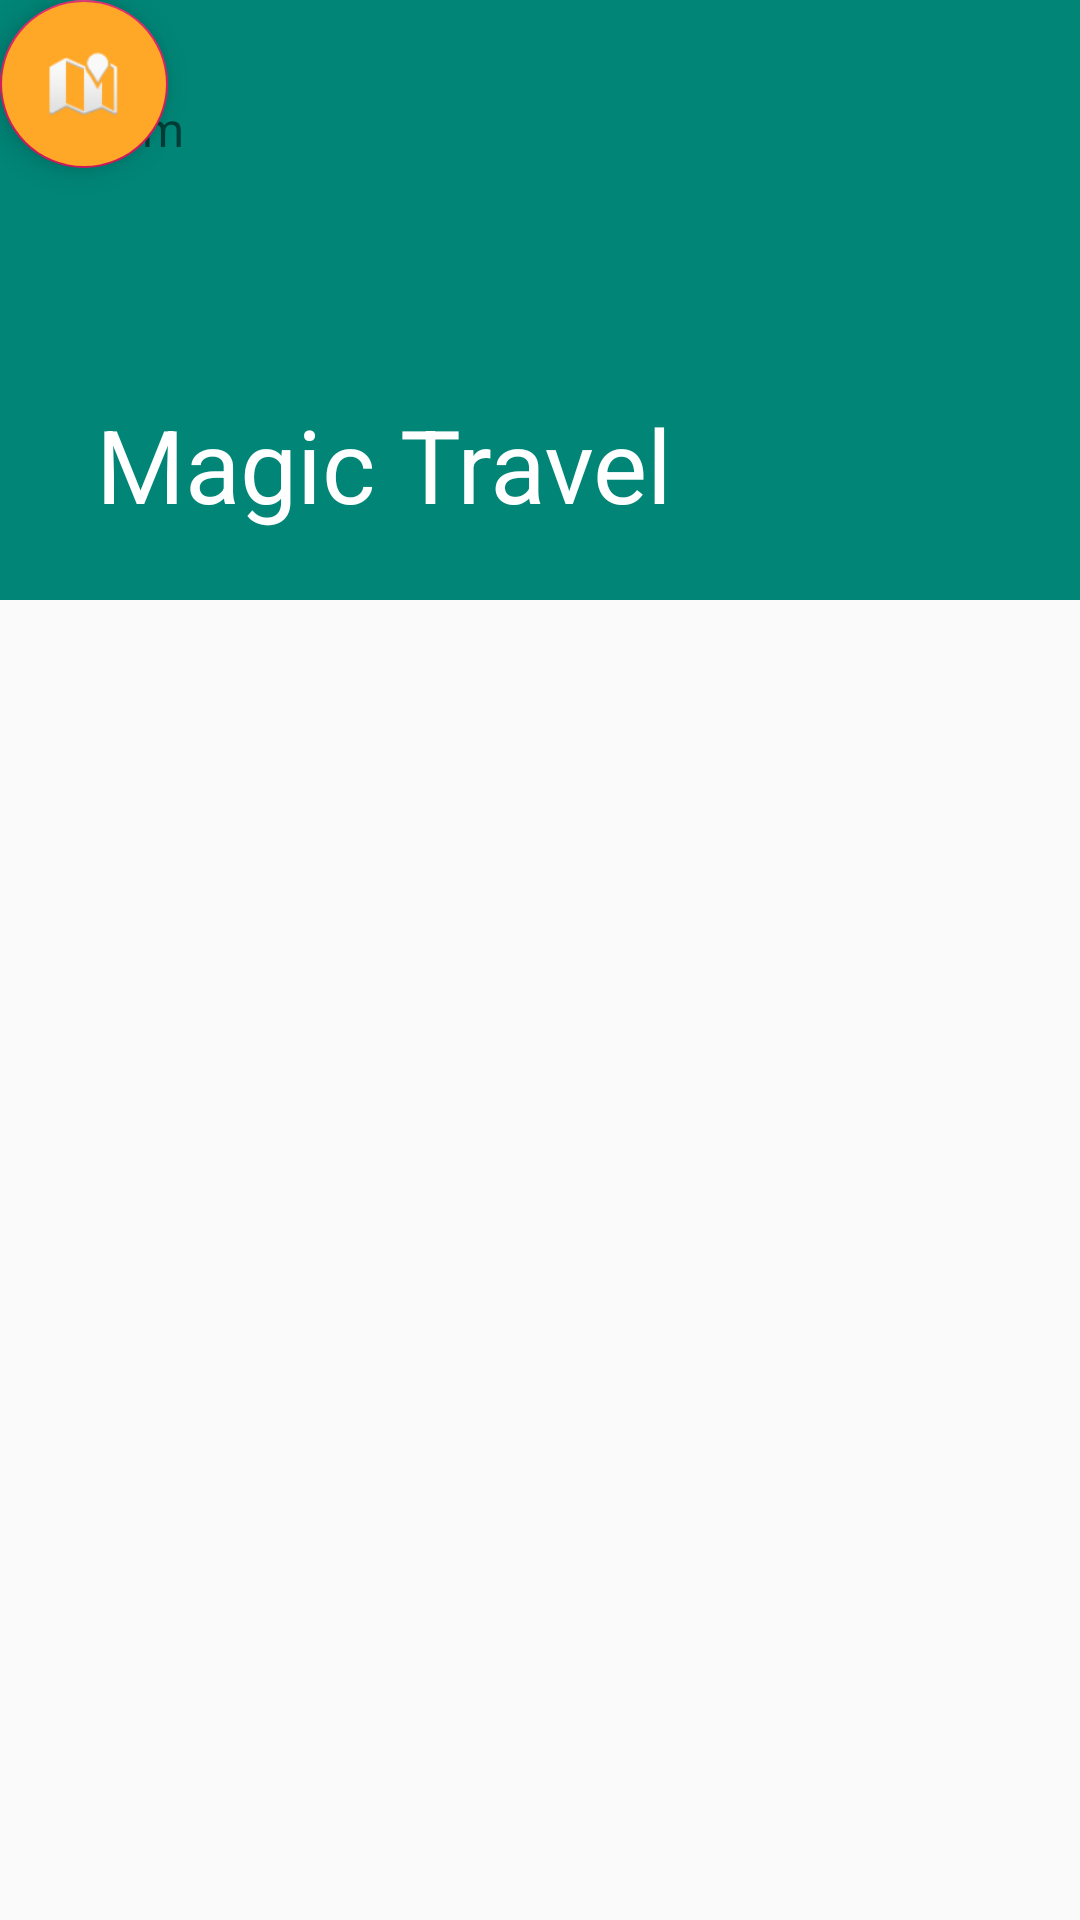

Where to tap for icons on this 1080*1920 app screen, as point (x, y):
map: point (84, 84)
